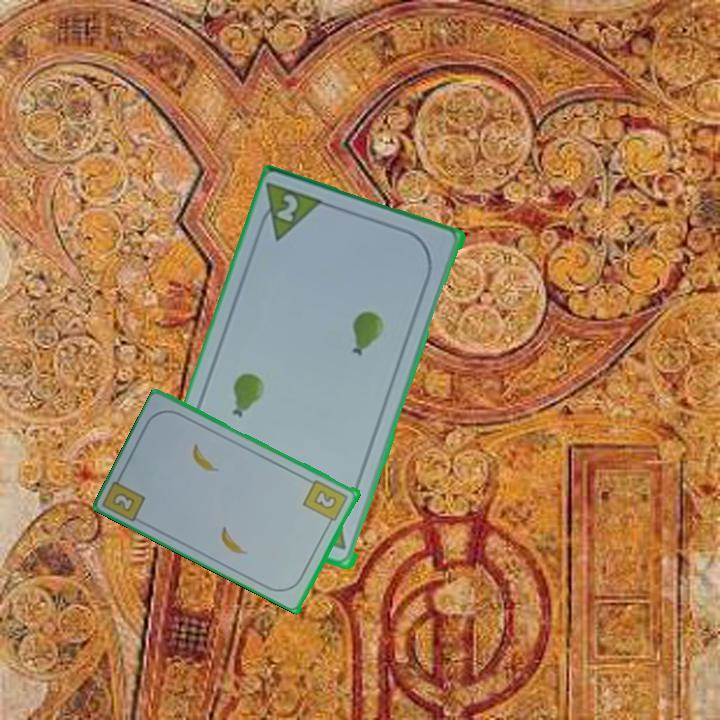2b: (300, 476, 351, 529), (109, 489, 138, 515)
2p: (273, 191, 302, 226)
